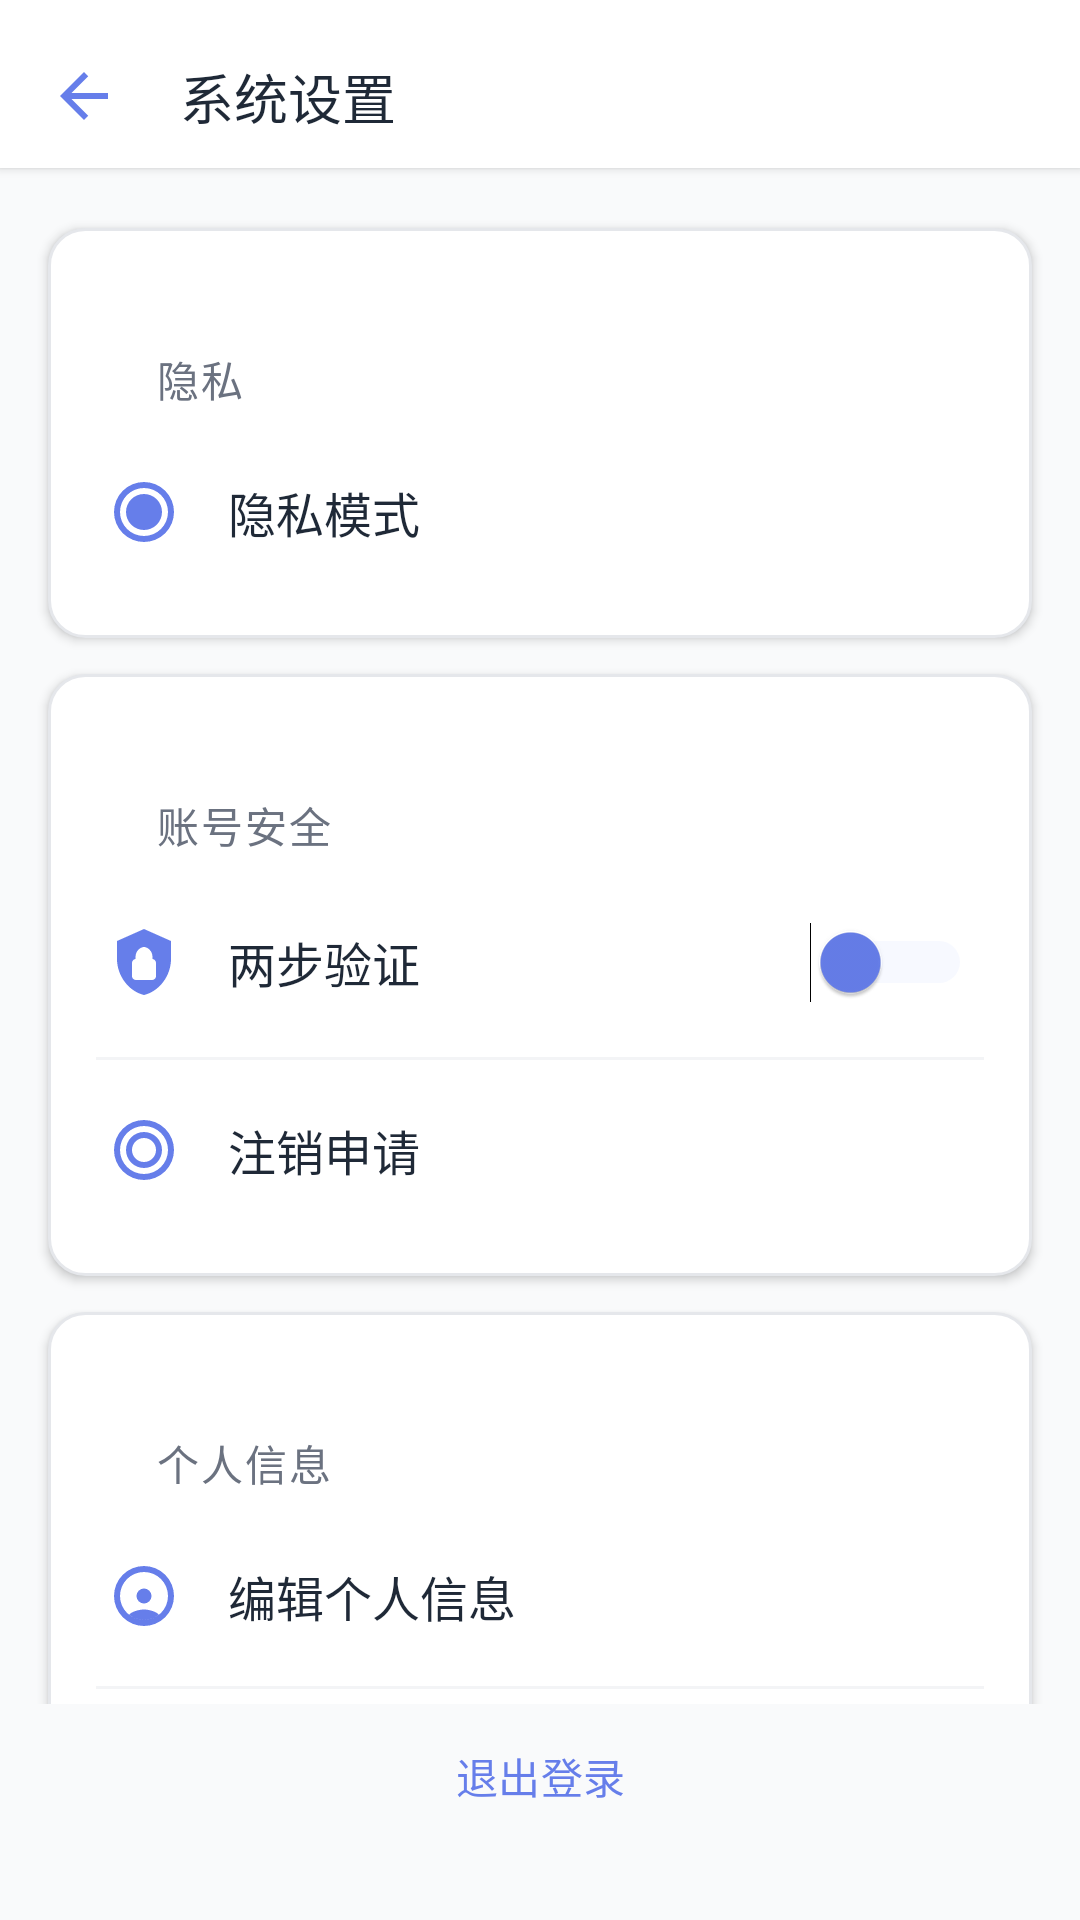

Icon bounding boxes for this 1080 x 1920 phone screenshot, format [x1,y1,x2,y2]:
profile: [114,1566,174,1626]
security: [117,929,171,995]
返回: [60,72,108,120]
